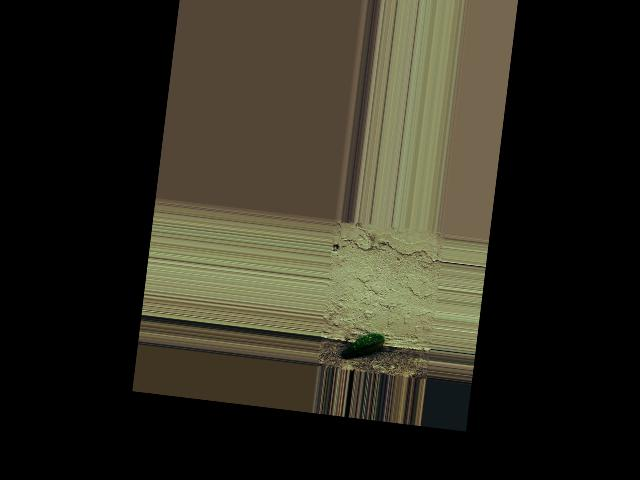cucumber: (342, 329, 385, 362)
